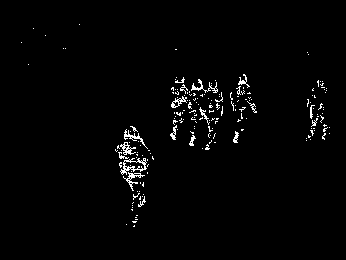person: (123, 125, 155, 224), (229, 74, 259, 145), (203, 80, 224, 151), (307, 79, 329, 142), (186, 78, 203, 146), (171, 75, 187, 141)
